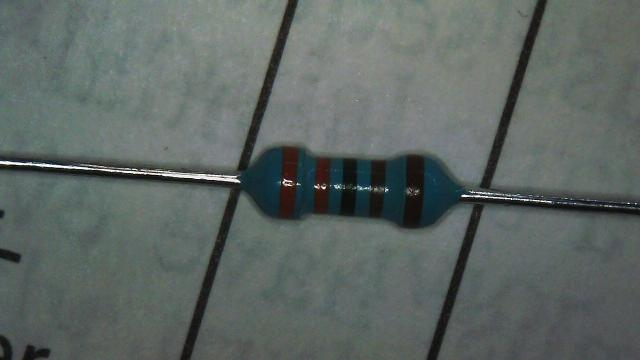black: (340, 159, 357, 215)
brown: (402, 156, 423, 226), (368, 160, 386, 218)
orange: (279, 147, 298, 218), (315, 158, 330, 213)
resistor: (242, 126, 465, 241)
